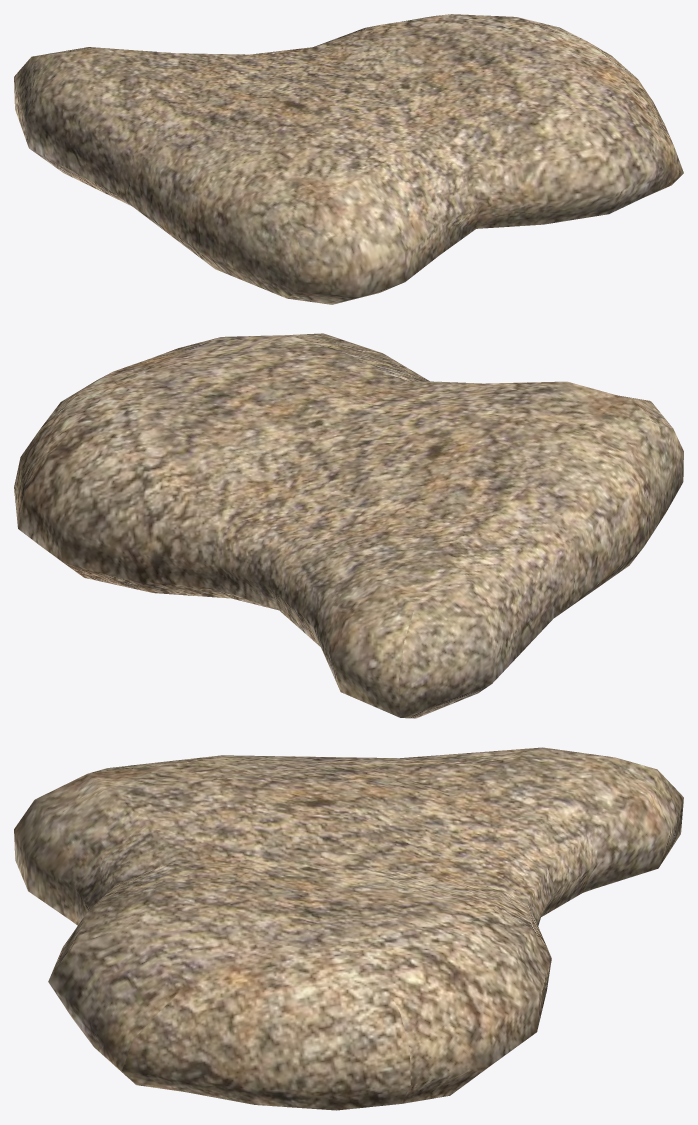
File: Stone07_v01.glb
3 renders of one model, top to bottom at view 1: azimuth 30°, elevation 25°; view 2: azimuth 150°, elevation 25°; view 3: azimuth 270°, elevation 25°, orthographic. The views are drawn at different scales.
Parts seen in each view (by area): view 1: SM_Stone05; view 2: SM_Stone05; view 3: SM_Stone05.
Boxes of the visible parts, x1=… form: SM_Stone05: x1=14, y1=14, x2=683, y2=304; SM_Stone05: x1=14, y1=333, x2=683, y2=718; SM_Stone05: x1=14, y1=747, x2=683, y2=1110.
Bounding box in the file's own units: 0.6096 × 0.1524 × 0.6096.
Materials: 1 (1 with a texture image).
